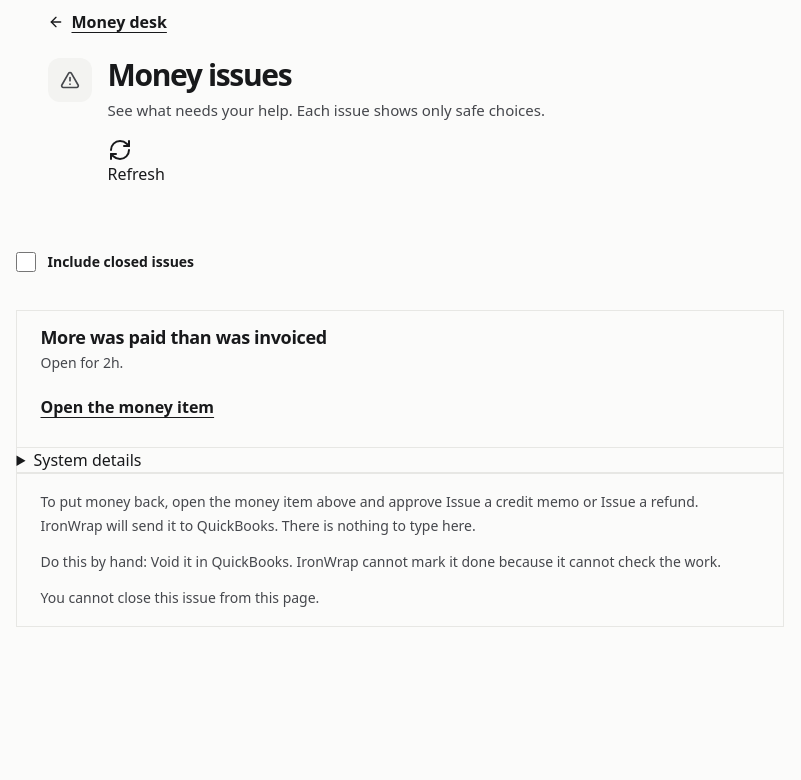
Test: money exception queue › names the issue in words and keeps both check codes in system details
Expected: the heading "More was paid than was invoiced" is shown, [40,325,327,349]
Click the heading "System details" at x=87, y=460, box [33,449,142,471]
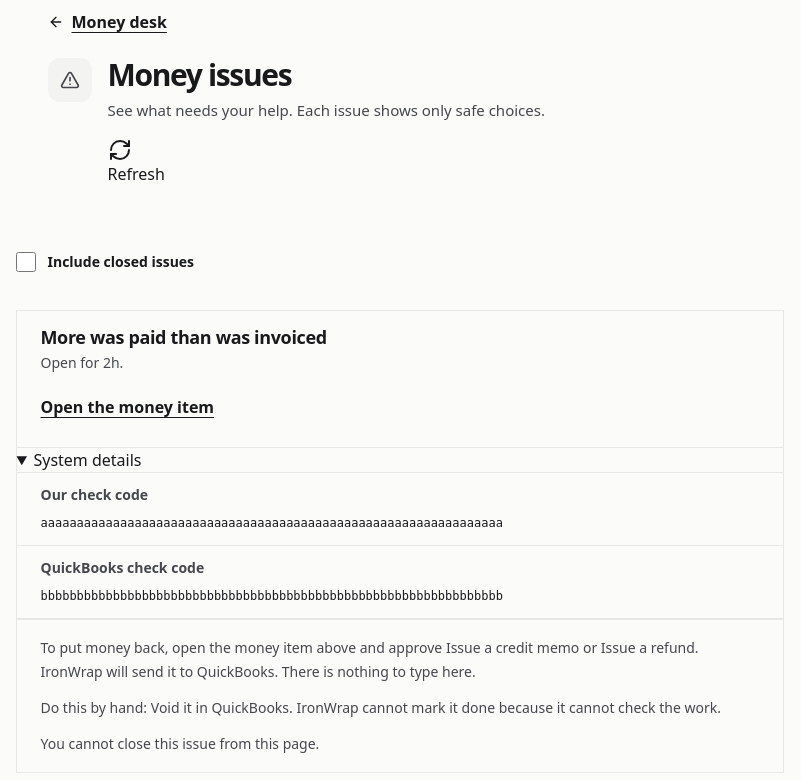
Expected: the text "Our check code" is shown, [40,485,148,504]
Expected: the text "QuickBooks check code" is shown, [40,558,204,577]
